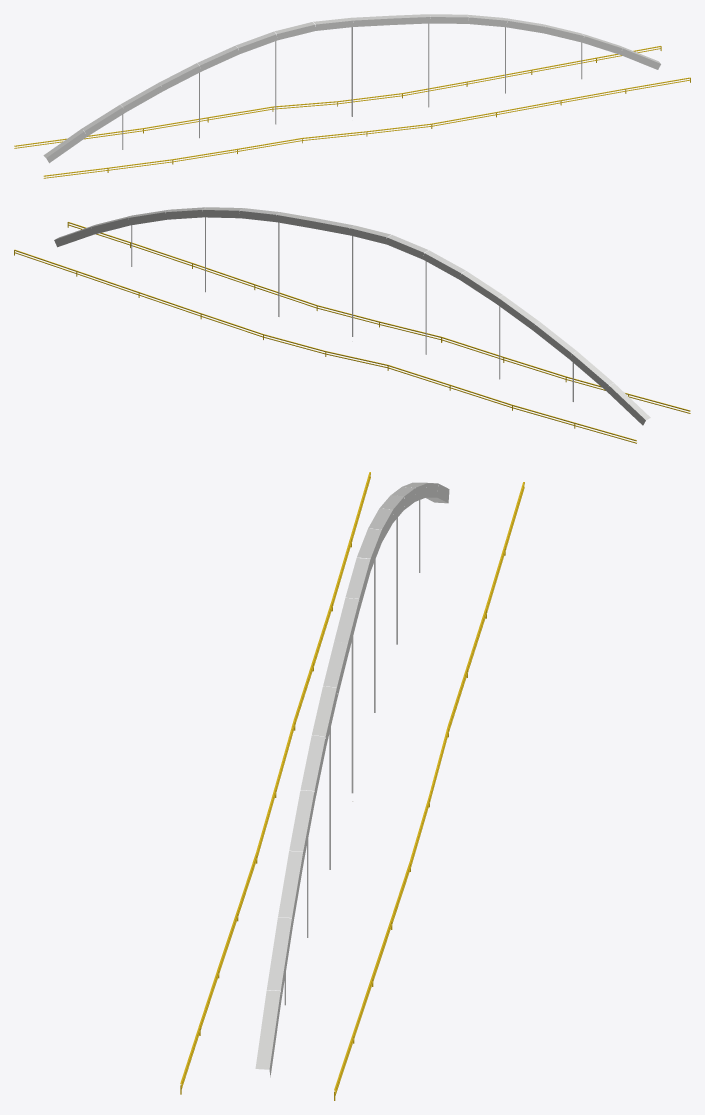
Rendered from spaans_bridge.glb.
3 views of the same model, one above another, from view 1: azimuth 30°, elevation 25°; view 2: azimuth 150°, elevation 25°; view 3: azimuth 270°, elevation 25° (orthographic). The views are drawn at different scales.
Visible parts, largest first — view 1: spaans_bridge_lod0; view 2: spaans_bridge_lod0; view 3: spaans_bridge_lod0.
Boxes of the visible parts, bbox=[...] form: spaans_bridge_lod0: bbox=[14, 14, 690, 178]; spaans_bridge_lod0: bbox=[14, 207, 690, 443]; spaans_bridge_lod0: bbox=[180, 472, 524, 1100].
Size of what is drawn, in the model's own units: 149 by 25.23 by 36.43.
